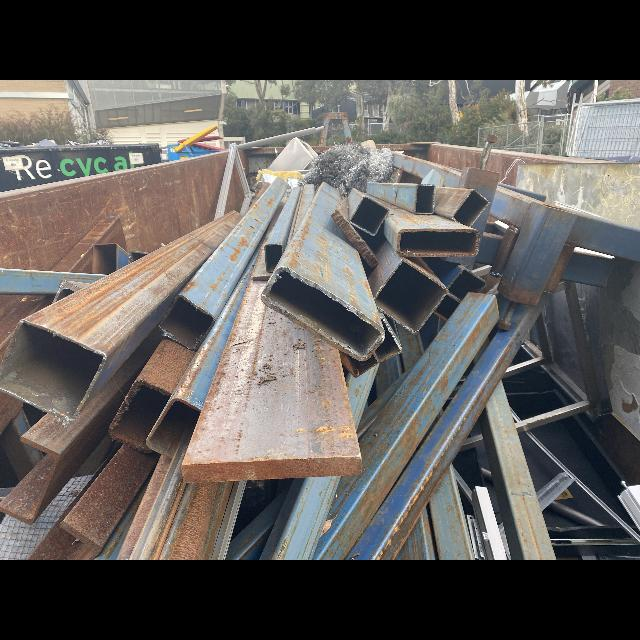Aluminium: (214, 143, 252, 220), (237, 127, 317, 150), (618, 484, 640, 535)
Ferrous Metal: (343, 294, 548, 560), (0, 210, 245, 422), (312, 292, 499, 560), (116, 241, 263, 558), (182, 280, 360, 483), (0, 323, 164, 525), (156, 178, 288, 351), (261, 185, 386, 361), (488, 182, 640, 305), (504, 282, 609, 434), (26, 443, 159, 560), (342, 188, 448, 334), (481, 382, 557, 560), (107, 336, 198, 452), (534, 415, 630, 521), (224, 475, 341, 560), (355, 322, 424, 442), (382, 186, 490, 255), (250, 183, 315, 281), (428, 465, 476, 560), (459, 134, 500, 239), (341, 314, 403, 379), (0, 268, 107, 305), (58, 224, 130, 274), (2, 296, 54, 363), (470, 488, 509, 560), (518, 430, 562, 493), (426, 260, 488, 303), (544, 509, 627, 540), (558, 484, 620, 525), (393, 151, 463, 186), (346, 362, 381, 430), (418, 297, 460, 351), (310, 144, 361, 186), (367, 183, 435, 214), (396, 506, 435, 560), (509, 389, 568, 421), (562, 252, 614, 288), (268, 139, 317, 173), (474, 221, 507, 267), (240, 148, 285, 175), (467, 514, 487, 560), (497, 166, 517, 187)
